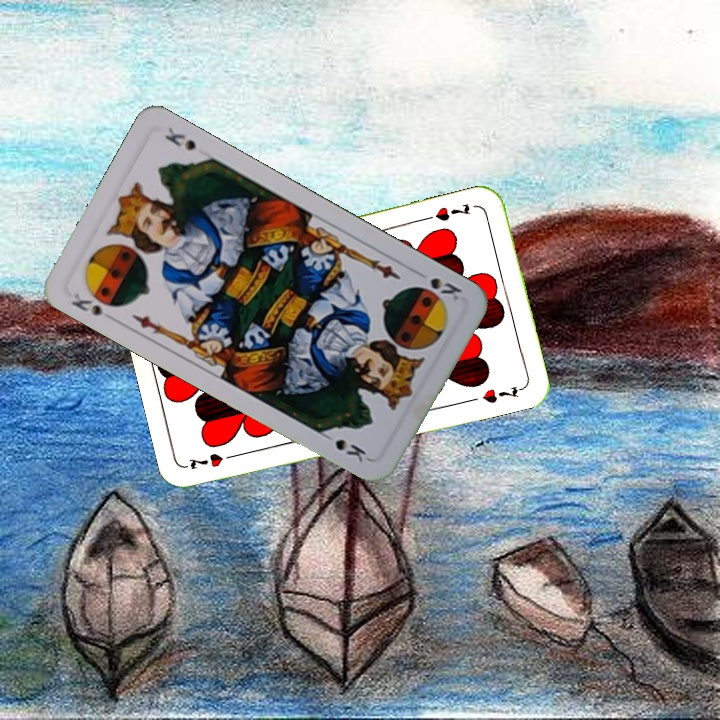H7: (185, 449, 242, 472), (431, 199, 473, 224)
SK: (67, 289, 119, 322), (426, 273, 465, 303)
